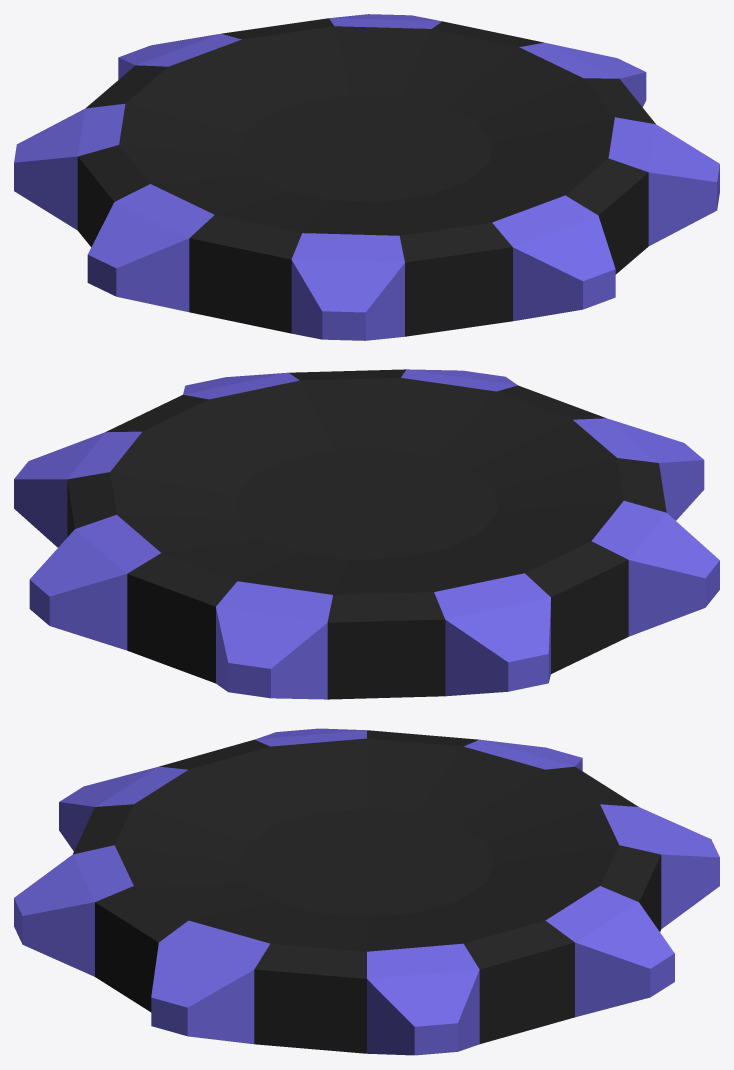
The model's file is gear.fbx.
3 views of the same model, one above another, from view 1: azimuth 30°, elevation 25°; view 2: azimuth 150°, elevation 25°; view 3: azimuth 270°, elevation 25° (orthographic). The views are drawn at different scales.
Visible parts, largest first — view 1: Cylinder.003; view 2: Cylinder.003; view 3: Cylinder.003.
Boxes of the visible parts, x1,y1,x2,y2 form: Cylinder.003: [14, 14, 719, 340]; Cylinder.003: [14, 369, 719, 699]; Cylinder.003: [14, 728, 719, 1055].
Size of the model in its own units: 240 by 35.14 by 240.
